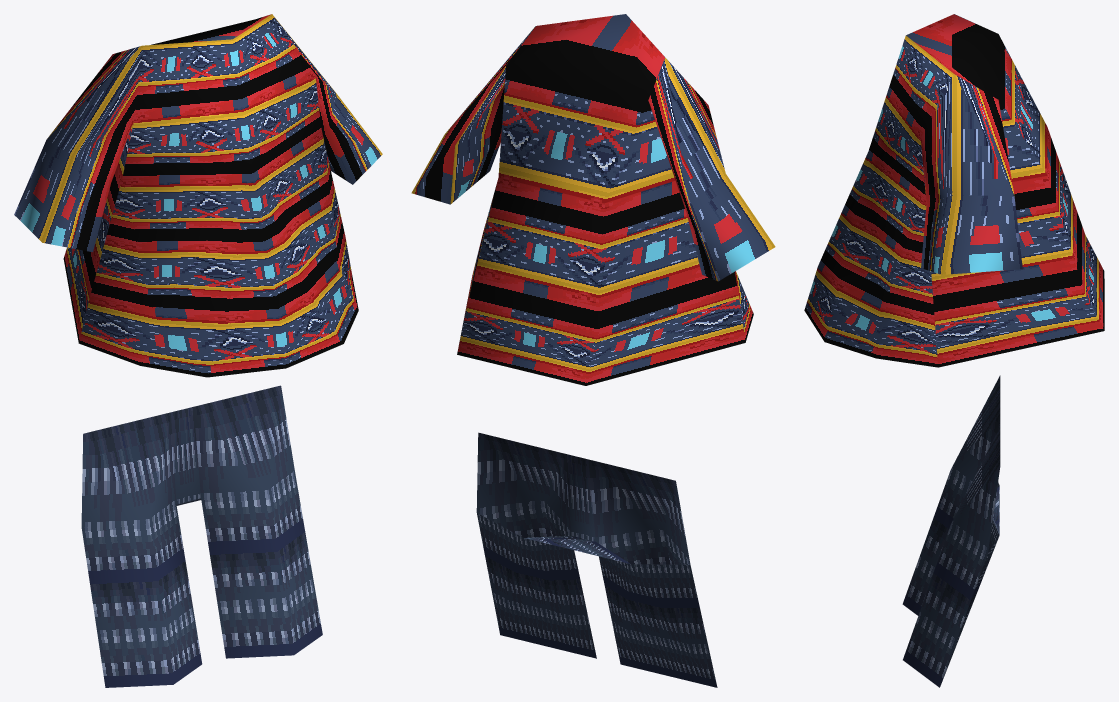
Rendered from 1754cl_set_bot.gltf.
3 views of the same model, side by side, from view 1: azimuth 30°, elevation 25°; view 2: azimuth 150°, elevation 25°; view 3: azimuth 270°, elevation 25° (orthographic). The views are drawn at different scales.
Visible parts, largest first — view 1: 1754cl_set_bot; view 2: 1754cl_set_bot; view 3: 1754cl_set_bot.
Boxes of the visible parts, x1=… form: 1754cl_set_bot: x1=14, y1=14, x2=382, y2=687; 1754cl_set_bot: x1=411, y1=14, x2=775, y2=687; 1754cl_set_bot: x1=804, y1=14, x2=1104, y2=687.
Size of the model in its own units: 1.09 by 1.96 by 0.8848.
Materials: 2 (2 with a texture image).
